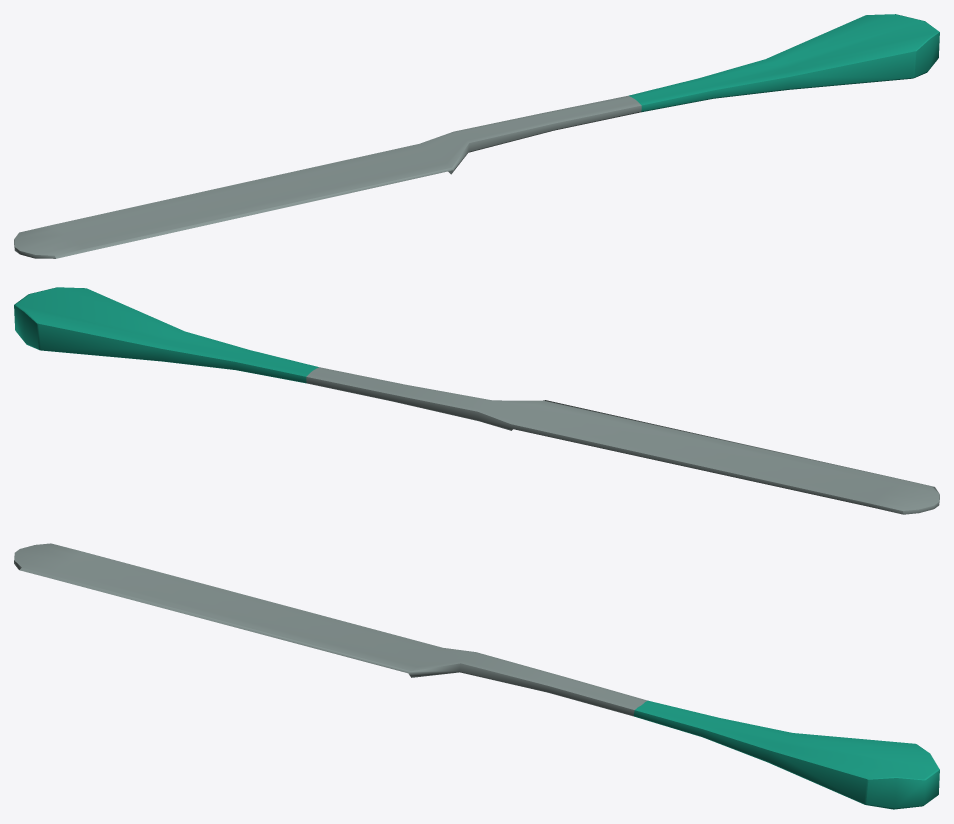
File: SM_Dishes_13.fbx
3 renders of one model, top to bottom at view 1: azimuth 30°, elevation 25°; view 2: azimuth 150°, elevation 25°; view 3: azimuth 330°, elevation 25°, orthographic. The views are drawn at different scales.
Visible parts, largest first — view 1: SM_Dishes_13; view 2: SM_Dishes_13; view 3: SM_Dishes_13.
Part boxes in pixels (left/top/right/bottom): SM_Dishes_13: left=14, top=14, right=939, bottom=258; SM_Dishes_13: left=14, top=287, right=939, bottom=514; SM_Dishes_13: left=14, top=543, right=939, bottom=809.
Size of the model in its own units: 20.67 by 2.05 by 0.8335.
